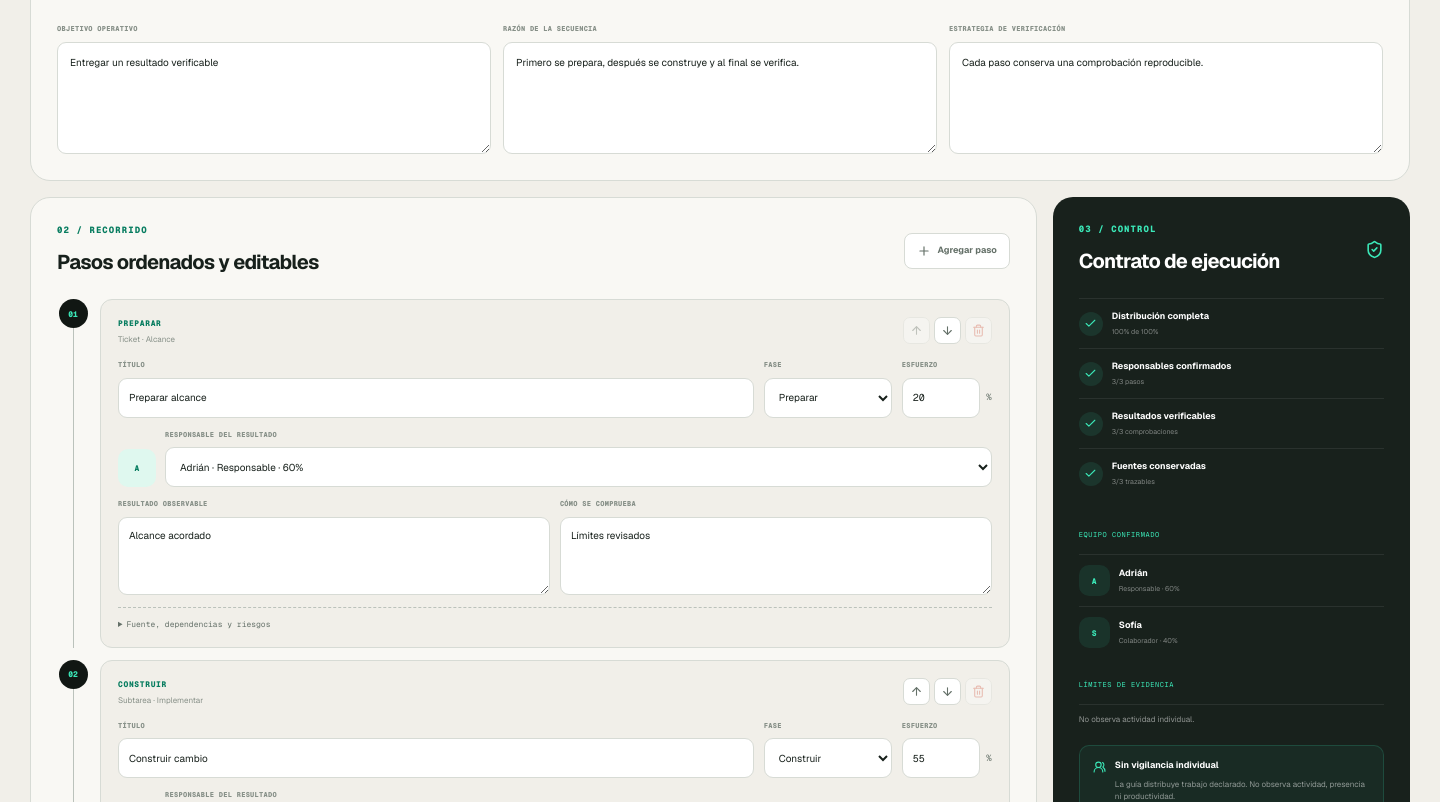
Test: PlanningGuideEditor › bloquea confirmación si el esfuerzo deja de sumar cien
(page scrolled)
Replace the text in the number field named "Esfuerzo del paso 1" with "19" at (941, 398), box x1=902 y1=378 x2=980 y2=418
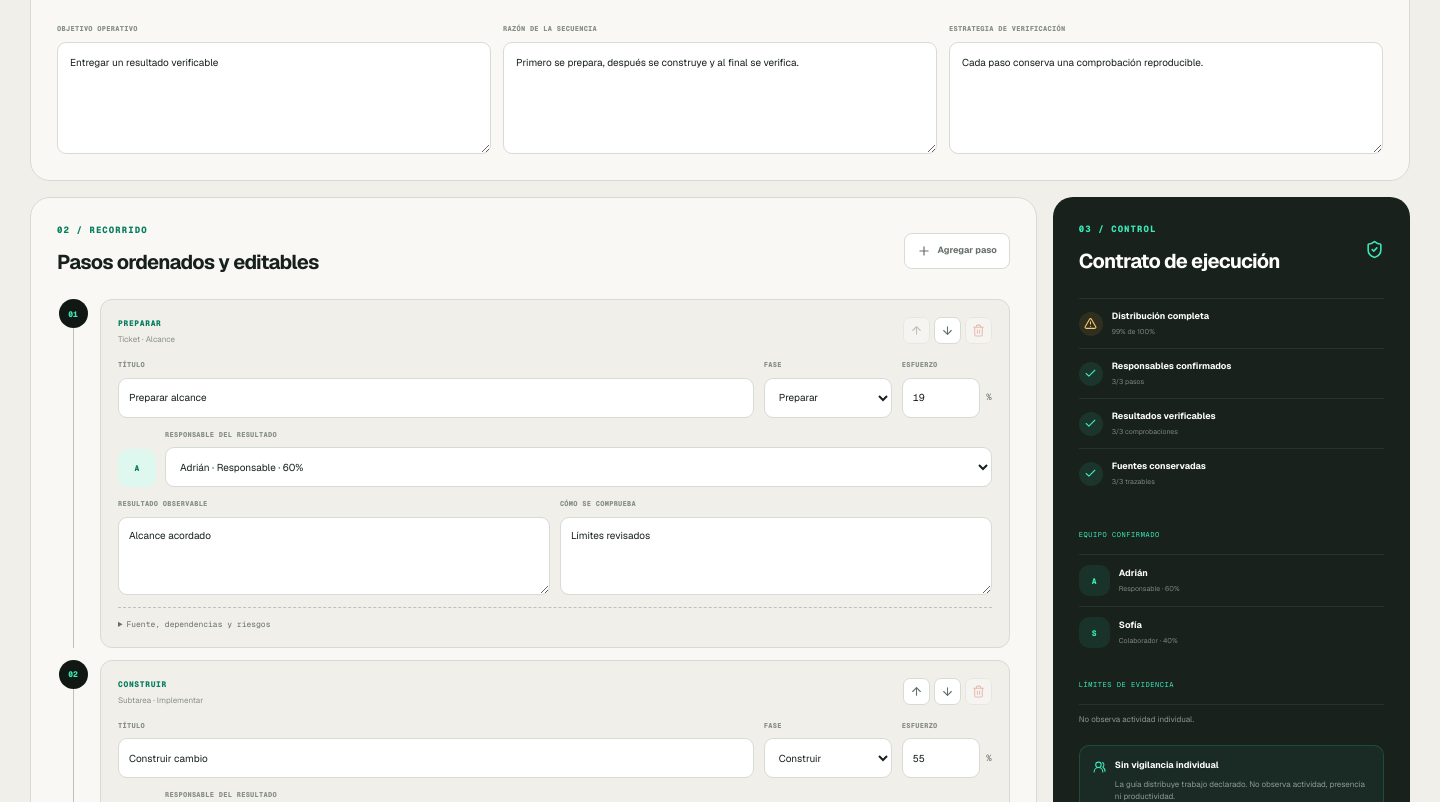
Result: the text "99% de 100%" is shown at x1=1112 y1=327 x2=1155 y2=336
